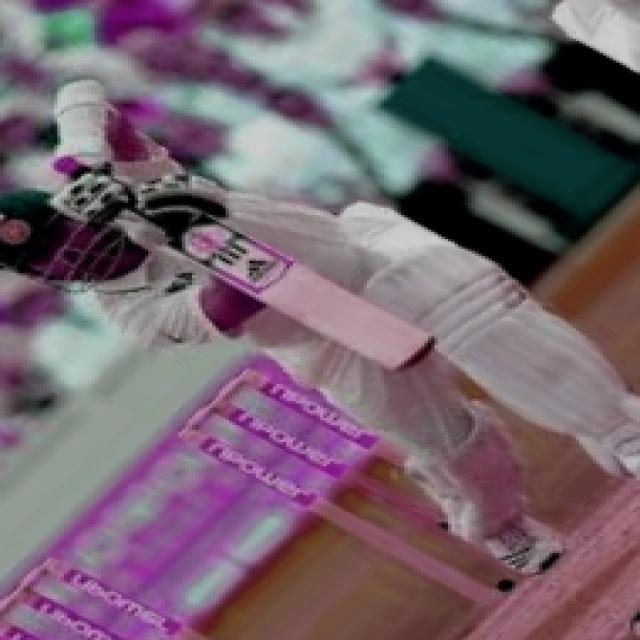bat: (150, 218, 437, 379)
toe: (392, 335, 432, 371)
